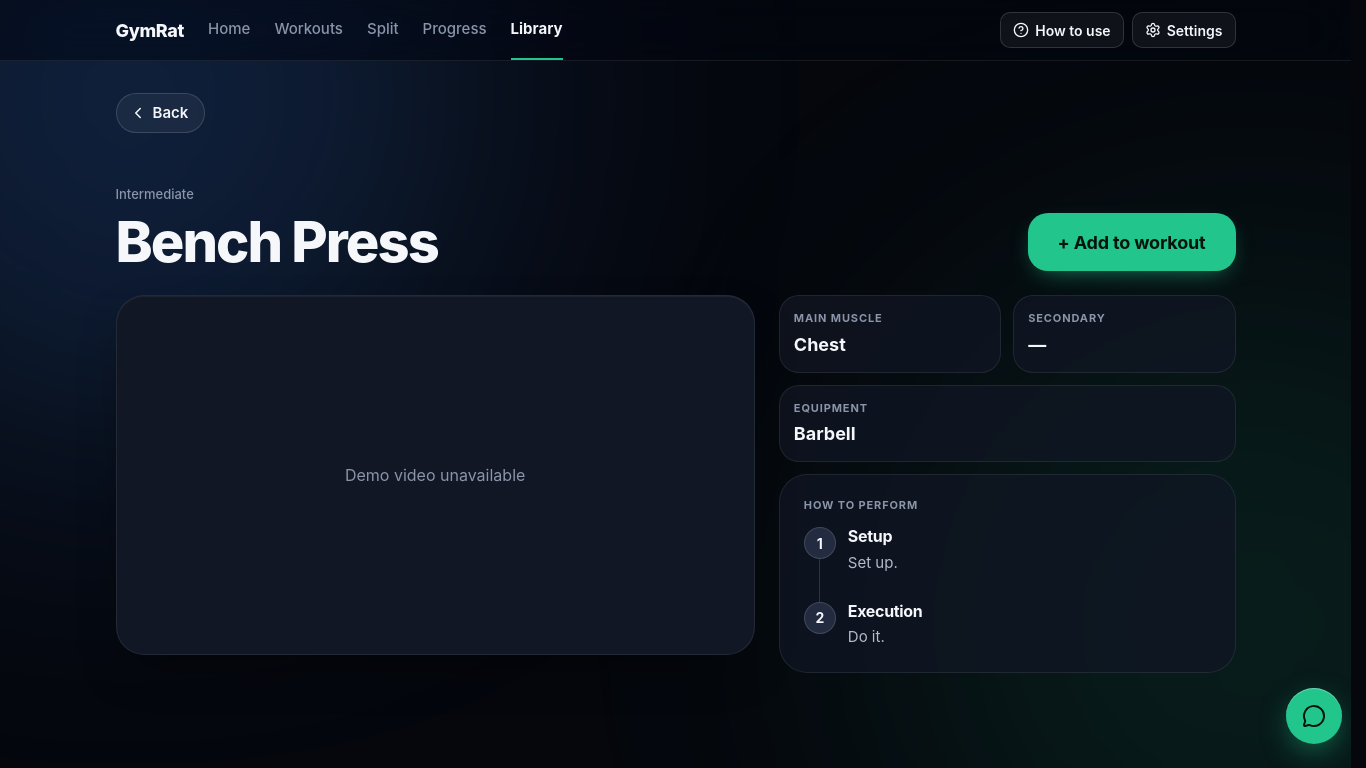
Test: AppRoutes › goes back to the library from an exercise opened directly
The width and height of the screenshot is (1366, 768).
Click the button "Back": (160, 113) [116,93,205,133]
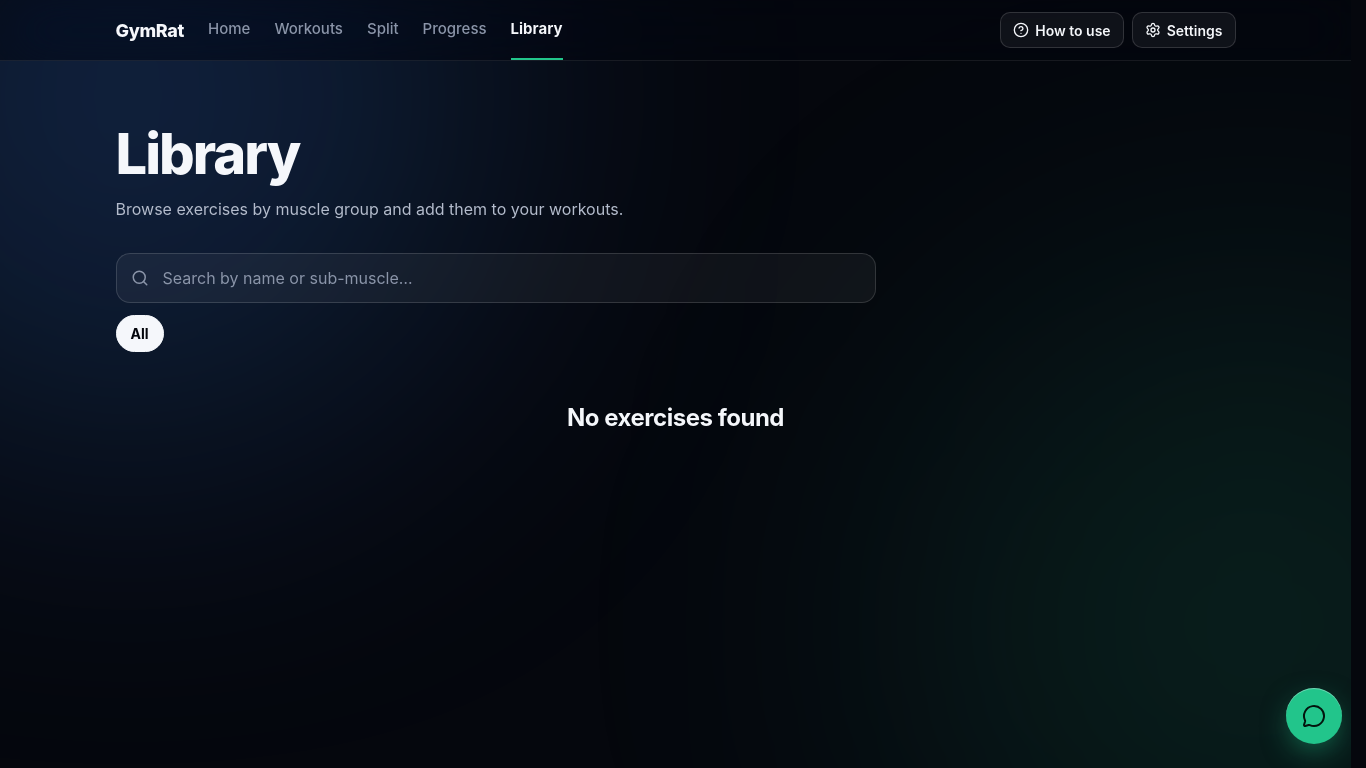
Expected: the heading "Library" is shown, [116,120,299,188]
